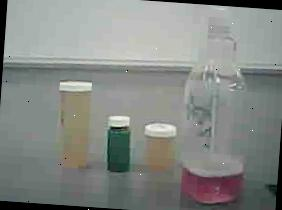Bottle A: (49, 74, 102, 176)
Bottle B: (138, 112, 182, 174)
Bottle C: (100, 110, 140, 178)
hazard: (169, 3, 268, 210)
